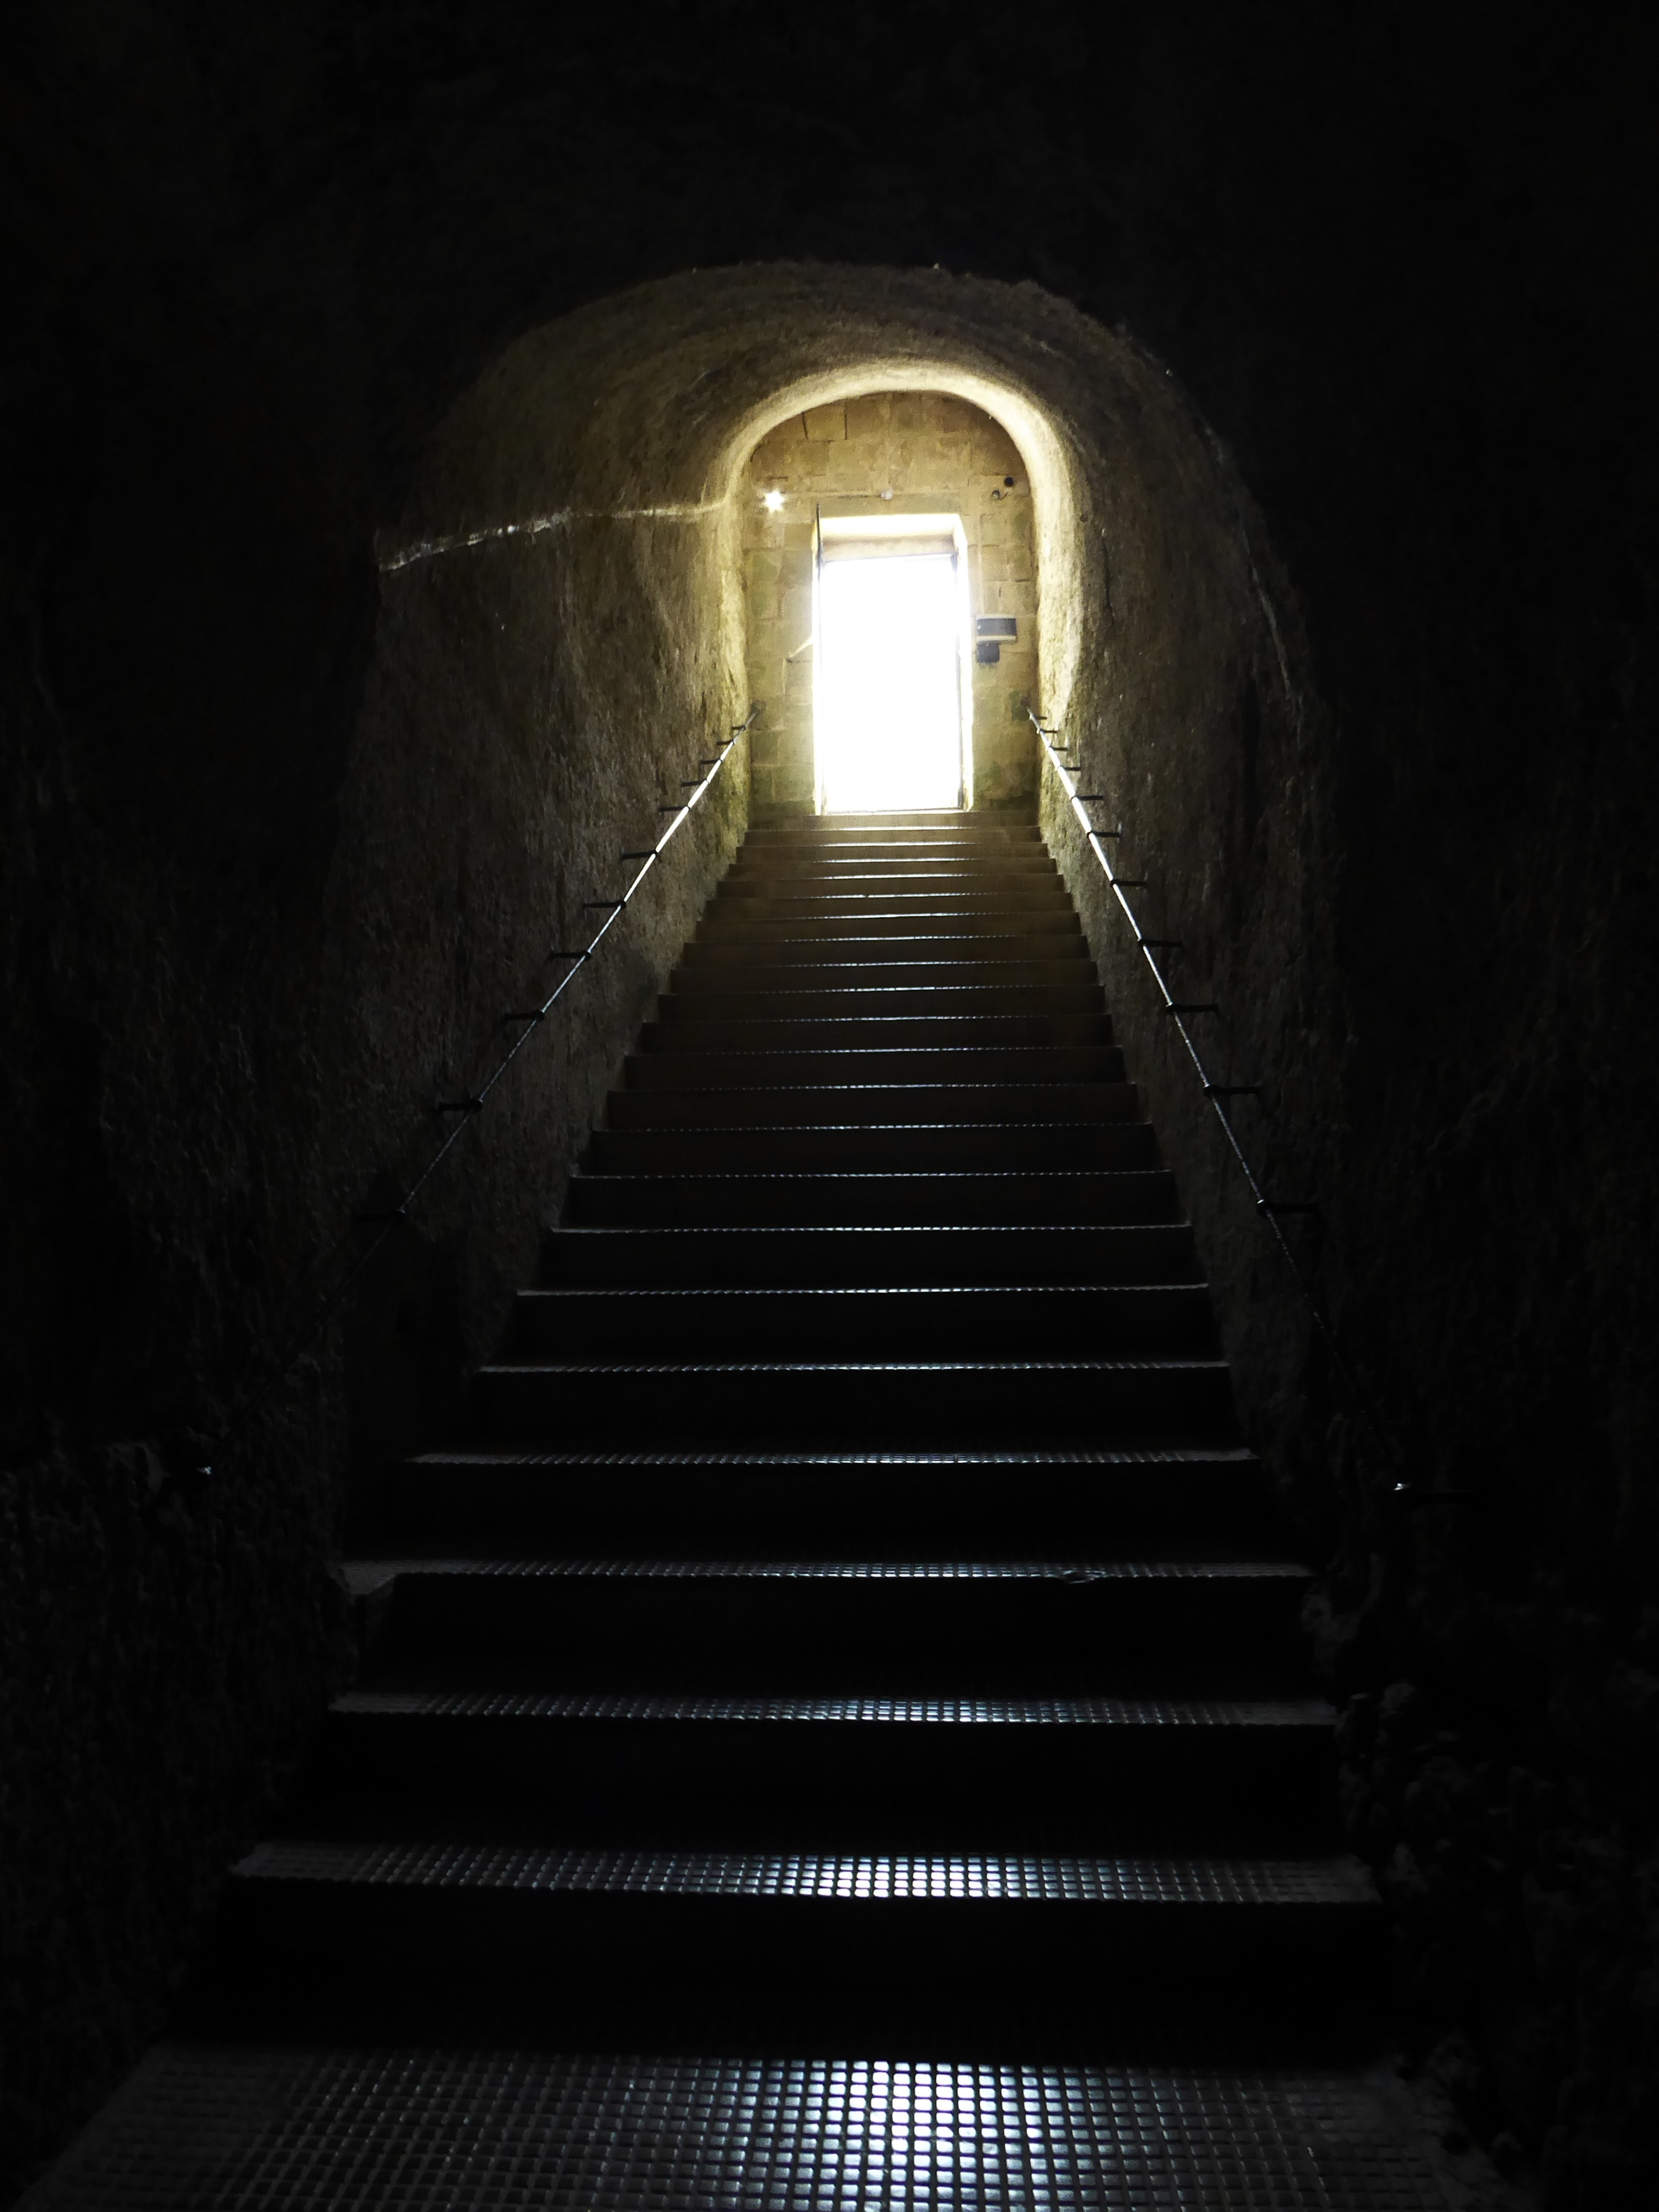upstairs: (596, 1233, 1182, 2104)
